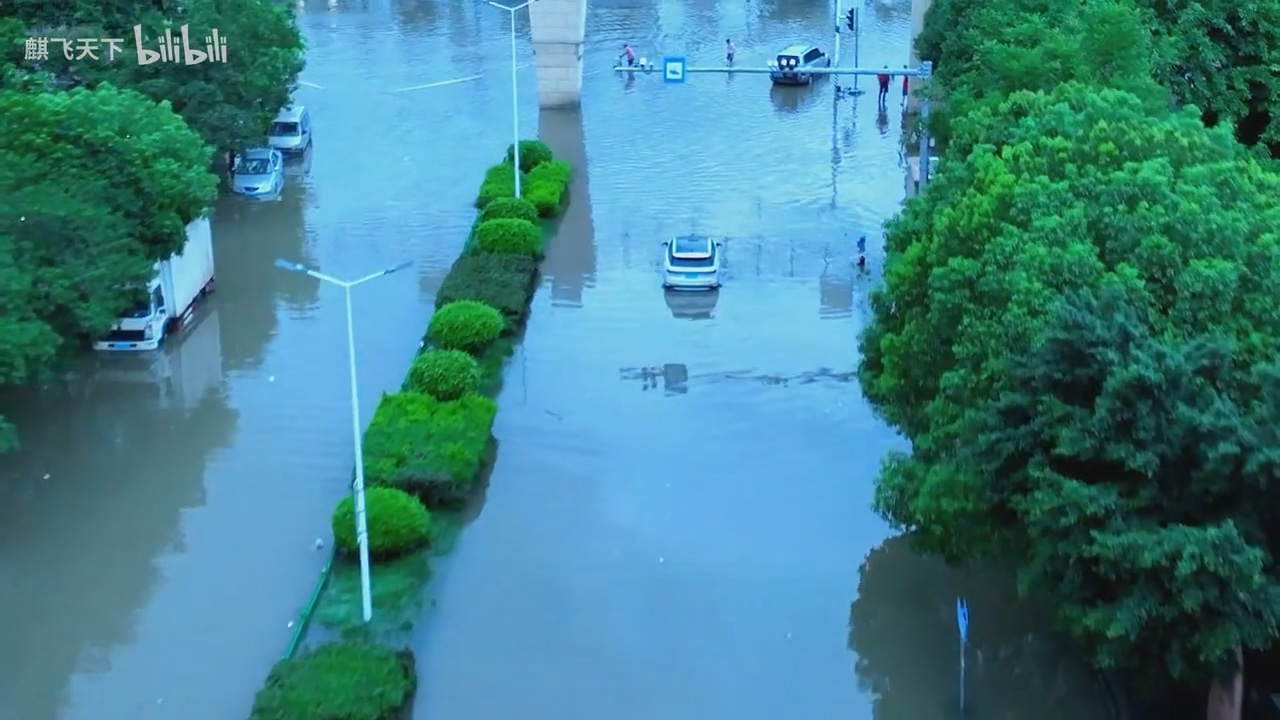puddle: (518, 198, 989, 720), (74, 201, 378, 710)
